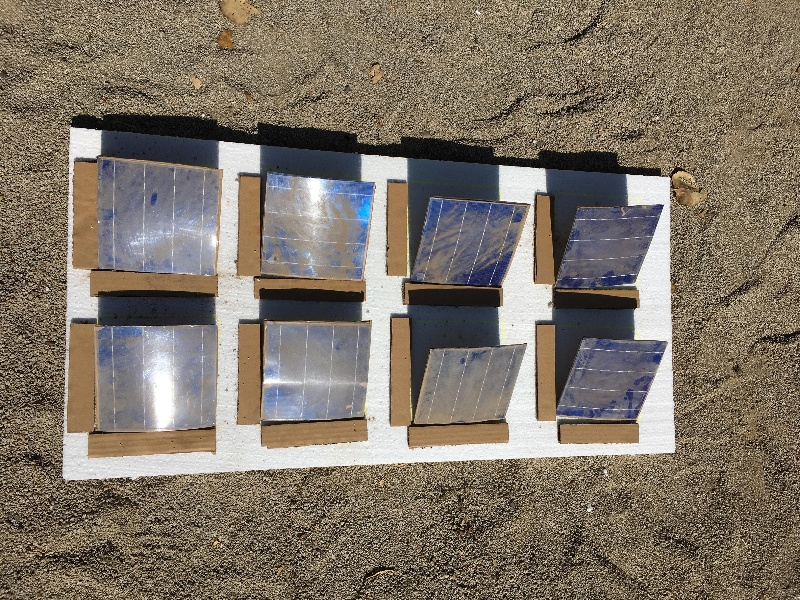dirty: (90, 327, 222, 431), (258, 173, 373, 279), (260, 324, 367, 420), (557, 206, 668, 291), (407, 348, 532, 423)
semi: (86, 156, 220, 277), (409, 199, 533, 291), (560, 336, 676, 423)
